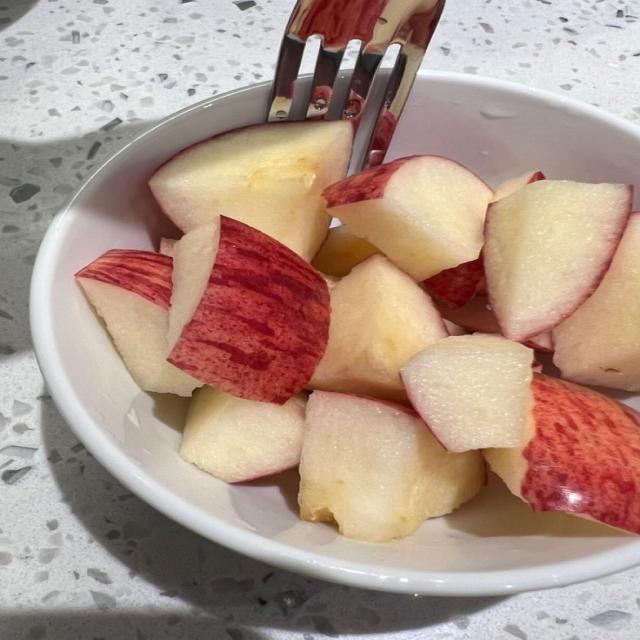apple: (168, 216, 329, 403), (149, 121, 353, 260), (299, 391, 485, 542), (484, 374, 639, 533), (483, 181, 632, 341), (323, 156, 493, 281), (309, 255, 447, 400), (76, 250, 202, 396), (401, 334, 533, 452), (554, 213, 639, 391), (180, 386, 306, 482), (312, 225, 380, 277), (424, 253, 486, 307), (423, 254, 484, 307), (437, 296, 500, 334), (491, 171, 545, 202), (159, 237, 177, 257)
